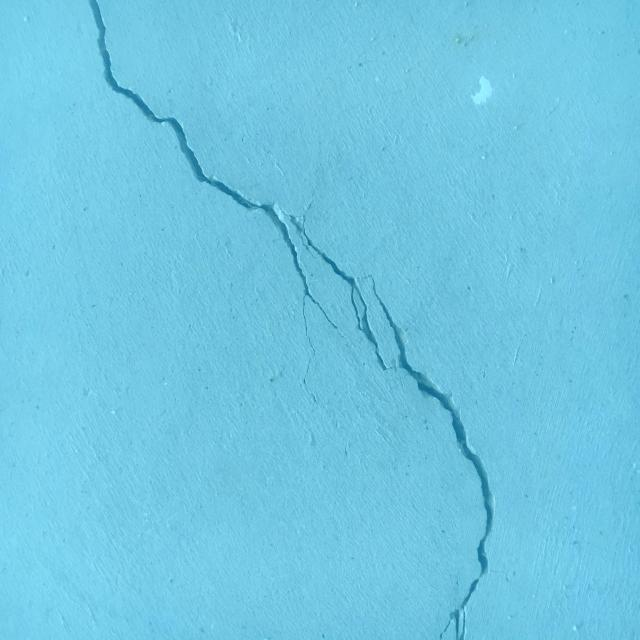crack: (276, 203, 506, 640), (88, 0, 342, 357), (302, 358, 319, 404)
